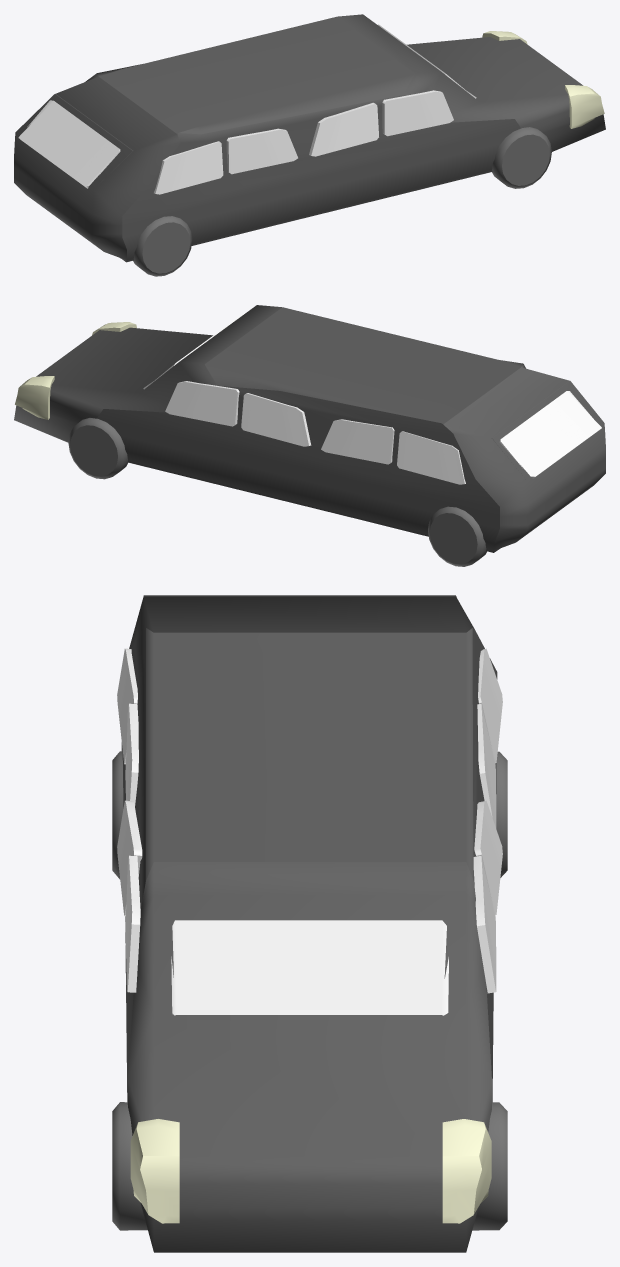
File: CarroNegro.fbx
3 renders of one model, top to bottom at view 1: azimuth 30°, elevation 25°; view 2: azimuth 150°, elevation 25°; view 3: azimuth 270°, elevation 25°, orthographic. The views are drawn at different scales.
Parts seen in each view (by area): view 1: pCube1, pCube10, pCylinder1, pCylinder2, pCube13, pCube8, pasted__pCube8, pasted__pCube13, pCube9; view 2: pCube1, pCube10, pCylinder3, pCylinder4, pasted__pCube12, pCube14, pasted__pasted__pCube12, pasted__pCube14, pCube9; view 3: pCube1, pCube6, pCube9, pCylinder1, pCylinder3, pasted__pCube12, pCube14, pCube8, pasted__pCube14, pCube13, pasted__pasted__pCube12, pasted__pCube13 (+3 smaller).
Part boxes in pixels (x1,y1,x2,y2): pCube1: (14,14,605,262); pCube10: (18,100,120,188); pCylinder1: (492,127,551,188); pCylinder2: (133,216,192,276); pCube13: (309,102,378,156); pCube8: (382,90,453,136); pasted__pCube8: (226,128,297,174); pasted__pCube13: (154,141,223,194); pCube9: (482,31,604,128); pCube1: (14,305,605,552); pCube10: (499,391,601,478); pCylinder3: (68,418,127,479); pCylinder4: (428,506,486,566); pasted__pCube12: (165,381,239,426); pCube14: (241,393,311,446); pasted__pasted__pCube12: (321,419,394,464); pasted__pCube14: (397,431,465,484); pCube9: (15,322,136,419); pCube1: (121,595,497,1252); pCube6: (171,920,448,1015); pCube9: (130,1119,491,1223); pCylinder1: (112,1102,147,1230); pCylinder3: (472,1102,507,1230); pasted__pCube12: (473,856,496,993); pCube14: (474,800,502,915); pCube8: (125,855,140,992); pasted__pCube14: (478,648,502,763); pCube13: (117,800,142,916); pasted__pasted__pCube12: (477,704,496,828); pasted__pCube13: (117,648,137,764).
Bounding box in the file's own units: 33.37 × 8.24 × 11.09.
